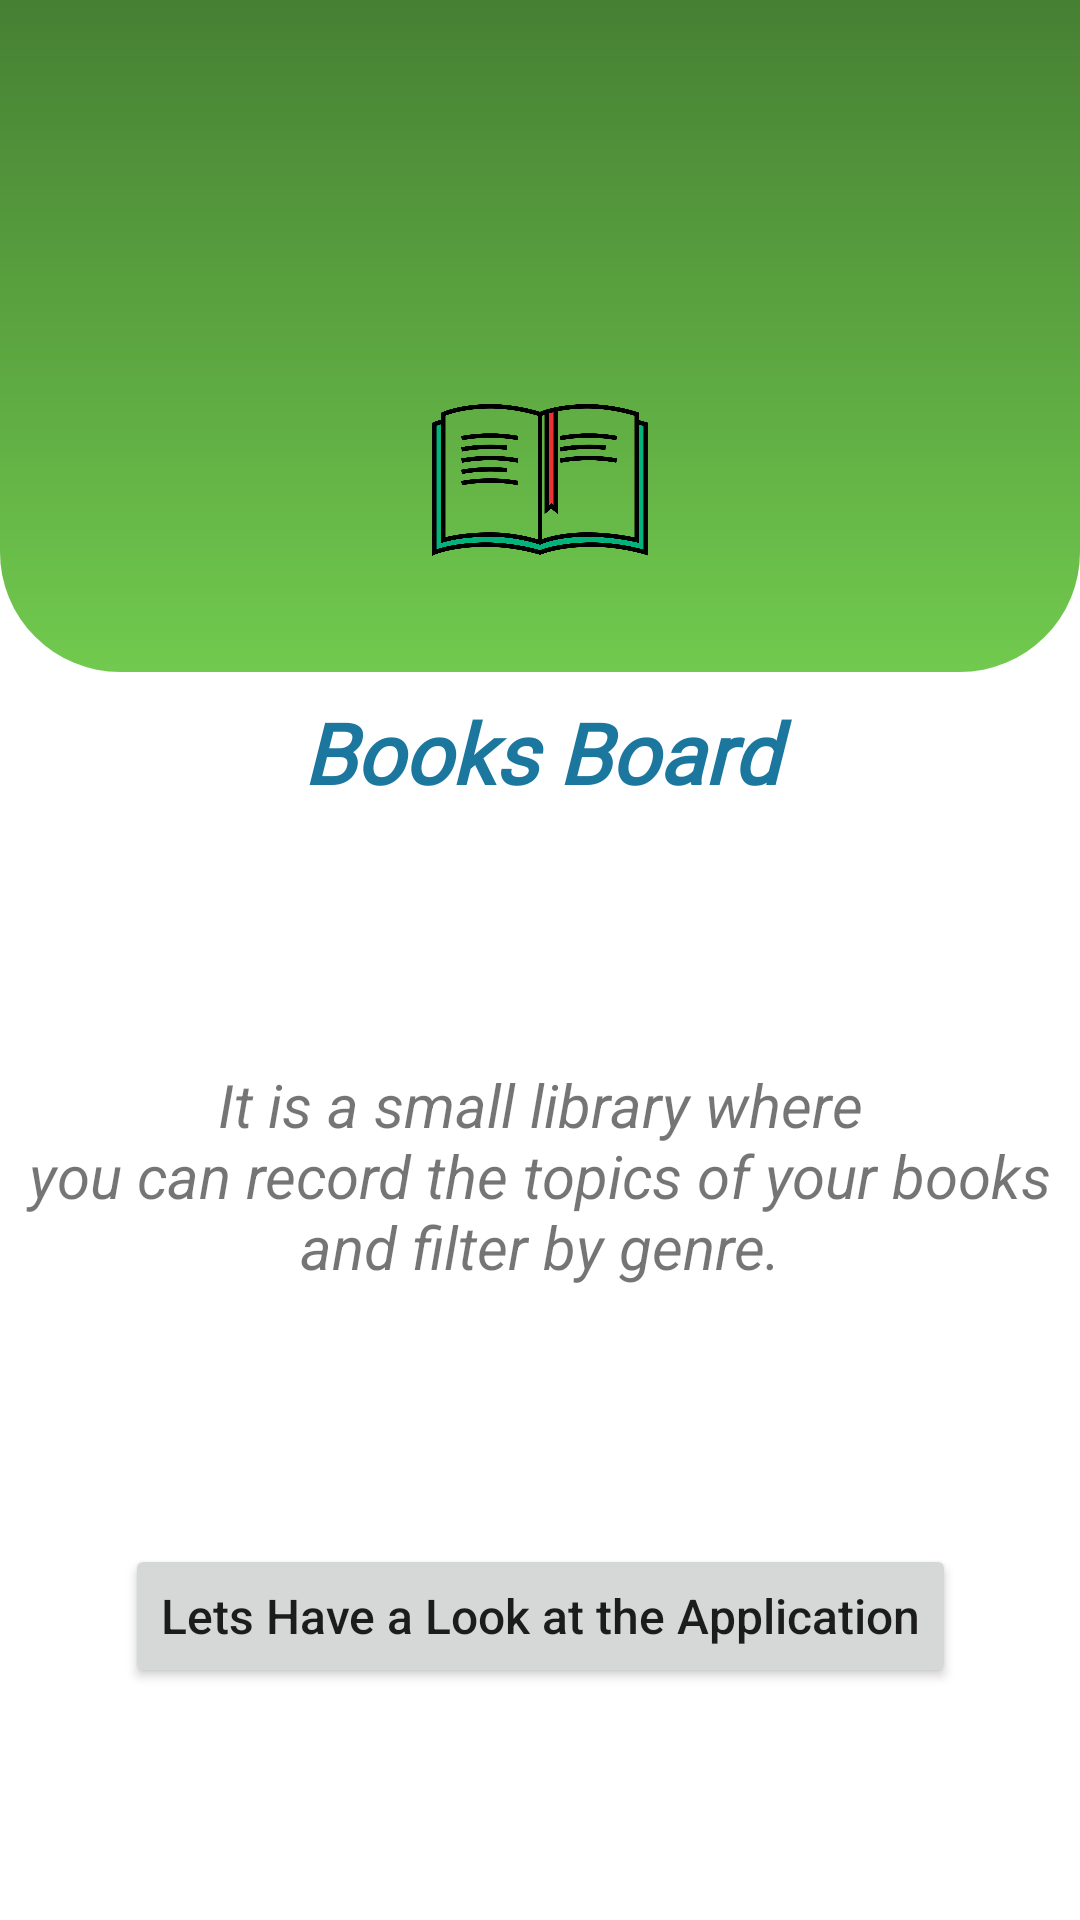

Icons on this 1080px x 1920px Android screen, each with the point to tap as [x,y]:
App Icon: [540,496]
